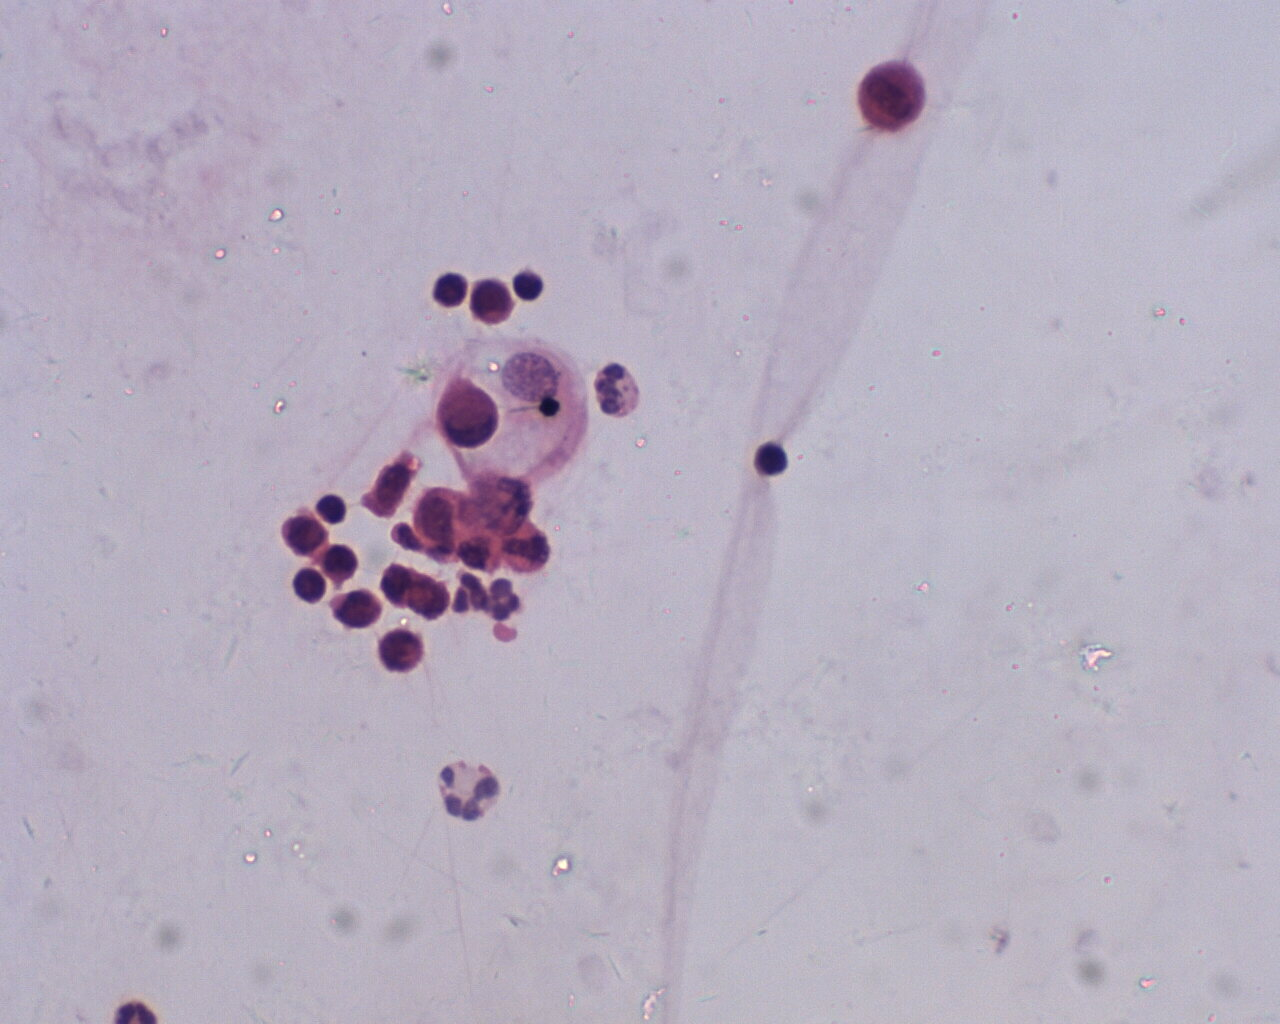ab: (850, 59, 932, 134), (439, 372, 501, 450), (406, 488, 471, 552)
lymph: (510, 269, 555, 308), (747, 440, 792, 478), (315, 487, 351, 526)
